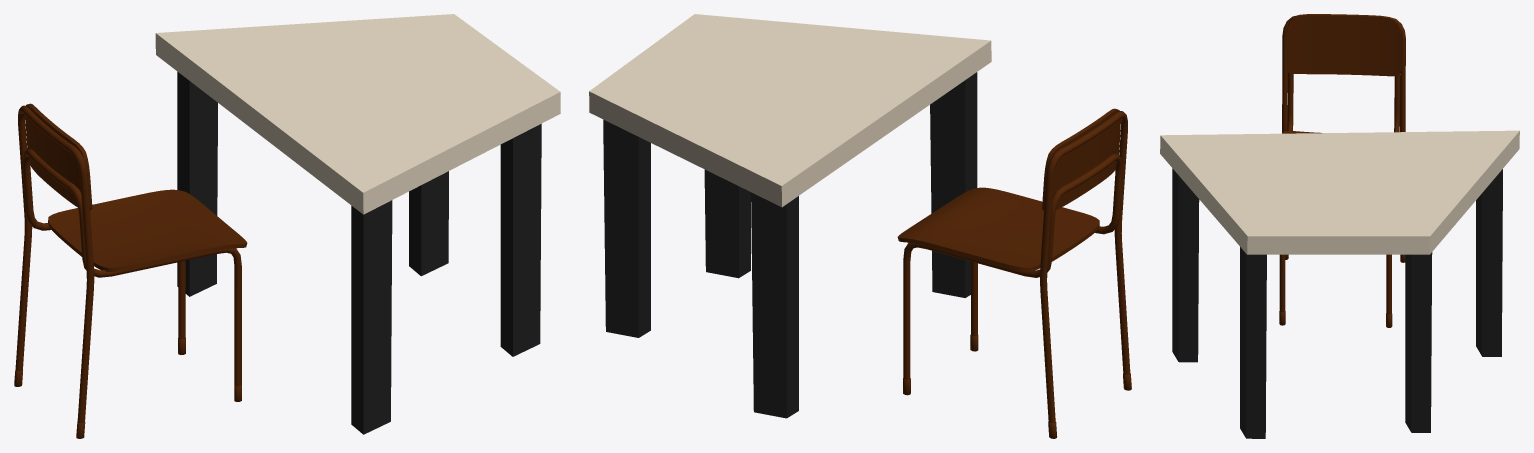
The model's file is ChairTable.gltf.
The picture shows the model from 3 angles, left to right: view 1: azimuth 30°, elevation 25°; view 2: azimuth 150°, elevation 25°; view 3: azimuth 270°, elevation 25°; orthographic projection. The views are drawn at different scales.
Visible parts, largest first — view 1: Cube.029, SchoolChair_SchoolChair_Mat_0.010; view 2: Cube.029, SchoolChair_SchoolChair_Mat_0.010; view 3: Cube.029, SchoolChair_SchoolChair_Mat_0.010.
Boxes of the visible parts, left/top/right/bottom form: Cube.029: left=155, top=14, right=560, bottom=434; SchoolChair_SchoolChair_Mat_0.010: left=14, top=103, right=247, bottom=438; Cube.029: left=589, top=14, right=991, bottom=418; SchoolChair_SchoolChair_Mat_0.010: left=897, top=108, right=1131, bottom=438; Cube.029: left=1160, top=130, right=1519, bottom=438; SchoolChair_SchoolChair_Mat_0.010: left=1279, top=14, right=1405, bottom=327.
Size of the model in its own units: 1.93 by 1.15 by 1.52.
